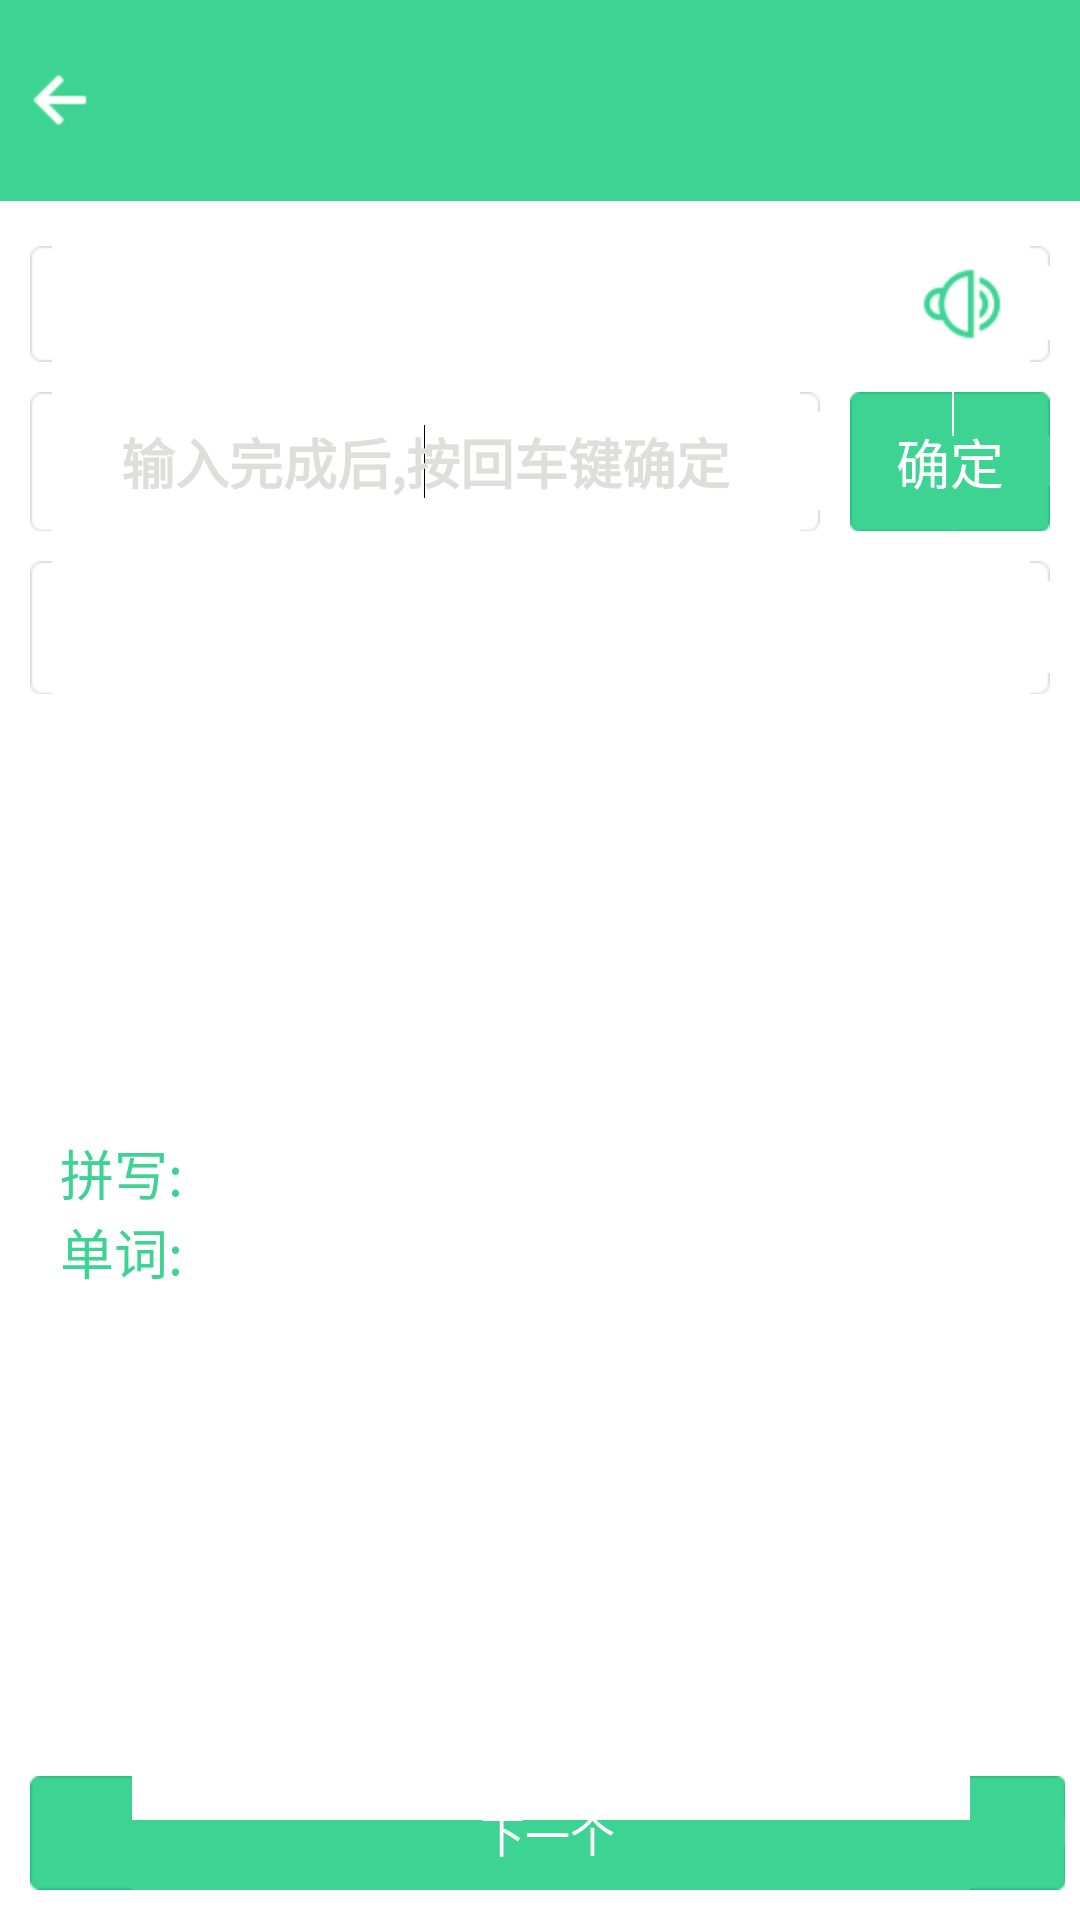

Point at icon controls on the screen. Image size 1080px x 1920px, points as [x,y].
page lock screen speak: [962,304]
page main back: [60,100]
